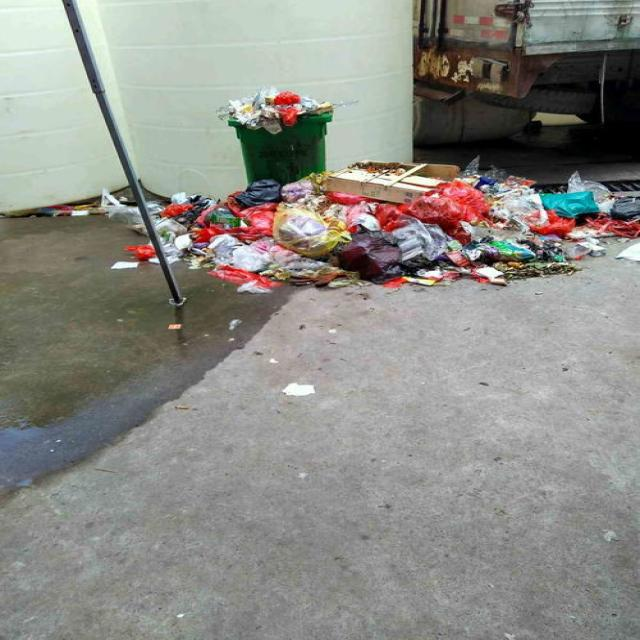garbage: (42, 160, 639, 293)
overflow: (215, 86, 334, 180)
